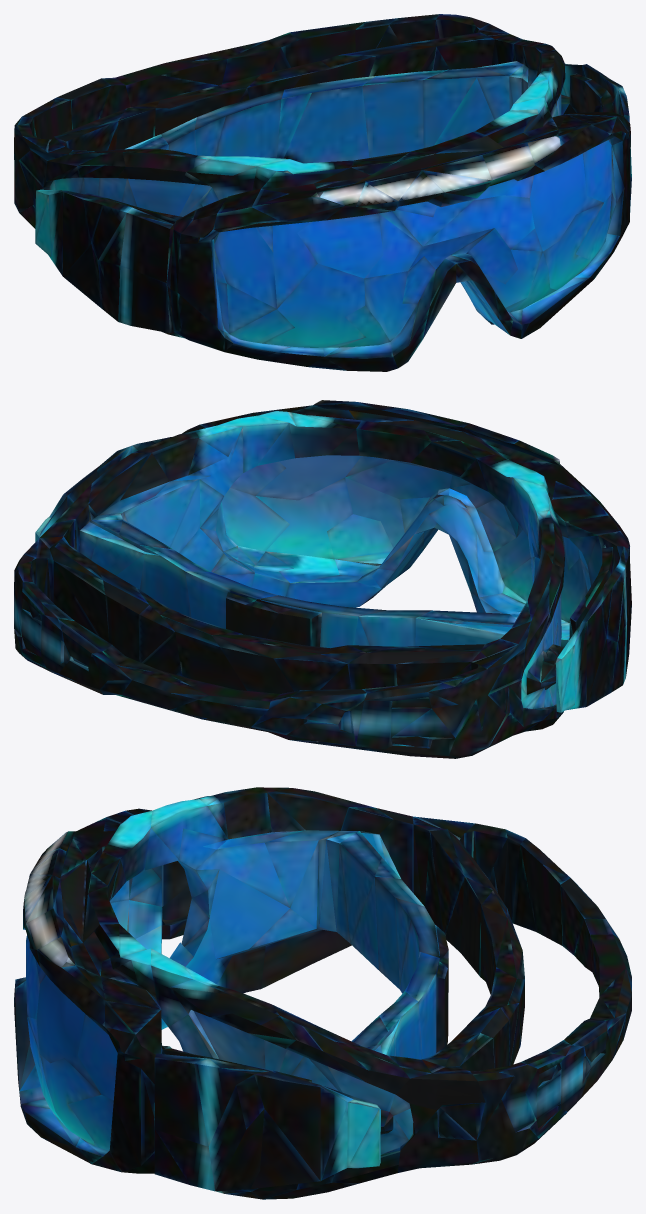
The model's file is goggles.glb.
The picture shows the model from 3 angles, top to bottom: view 1: azimuth 30°, elevation 25°; view 2: azimuth 150°, elevation 25°; view 3: azimuth 270°, elevation 25°; orthographic projection. The views are drawn at different scales.
Size of the model in its own units: 1.9 by 0.6517 by 1.74.
Materials: 1 (1 with a texture image).
